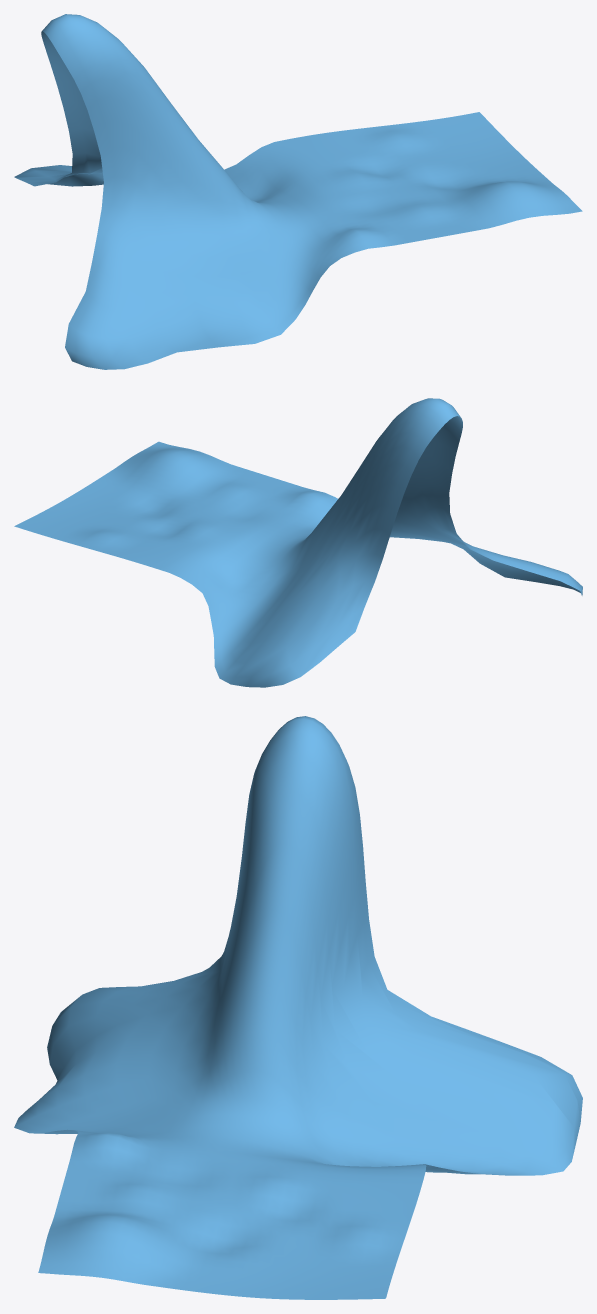
File: water.glb
The picture shows the model from 3 angles, top to bottom: view 1: azimuth 30°, elevation 25°; view 2: azimuth 150°, elevation 25°; view 3: azimuth 270°, elevation 25°; orthographic projection. The views are drawn at different scales.
Parts seen in each view (by area): view 1: Water; view 2: Water; view 3: Water.
Part boxes in pixels (x1,y1,x2,y2): Water: (14,14,582,369); Water: (14,398,582,687); Water: (14,716,582,1299).
Bounding box in the file's own units: 59.67 × 30 × 42.81.
